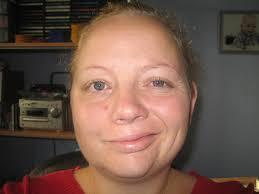strokeEyeWeak: (74, 59, 181, 103)
strokeMouthMid: (96, 125, 168, 159)
